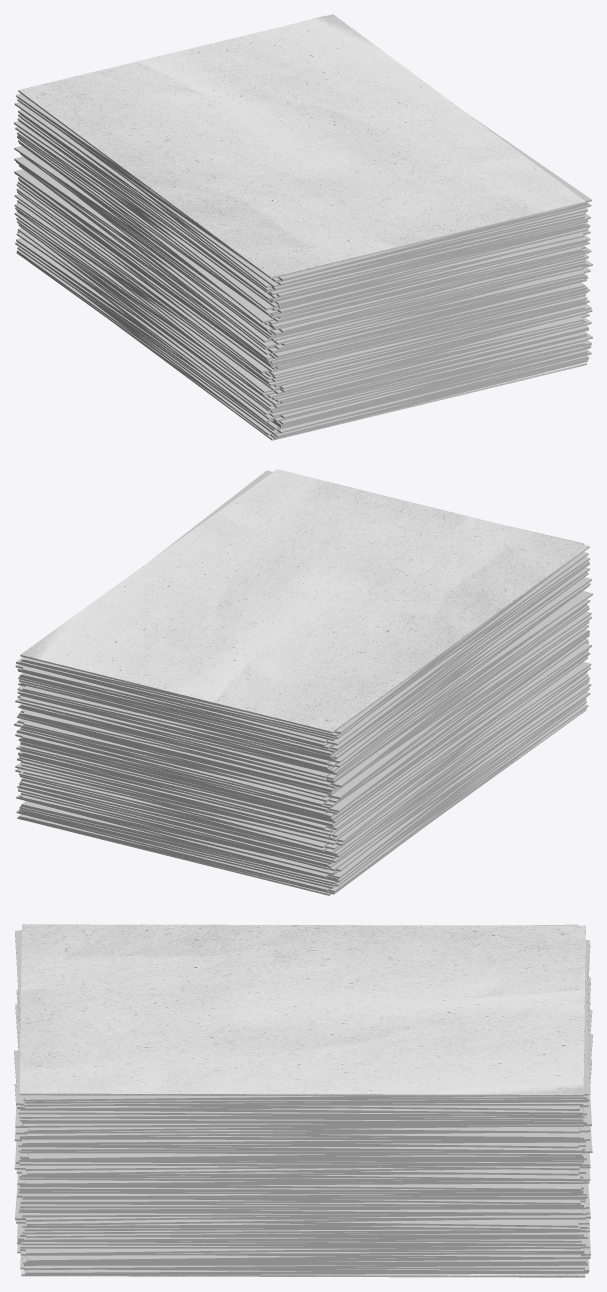
File: Papers.fbx
3 renders of one model, top to bottom at view 1: azimuth 30°, elevation 25°; view 2: azimuth 150°, elevation 25°; view 3: azimuth 270°, elevation 25°, orthographic. The views are drawn at different scales.
Parts seen in each view (by area): view 1: Plane.099, Plane.042, Plane.080, Plane.016, Plane.098, Plane.051, Plane.073, Plane.072, Plane.094, Plane.019, Plane.040, Plane.034 (+84 smaller); view 2: Plane.099, Plane.037, Plane.072, Plane.092, Plane.021, Plane.067, Plane.081, Plane.059, Plane.060, Plane.086, Plane.013, Plane.046 (+82 smaller); view 3: Plane.099, Plane.098, Plane.014, Plane.038, Plane.049, Plane.093, Plane.074, Plane.096, Plane.089, Plane.070, Plane.066, Plane.058 (+87 smaller).
Boxes of the visible parts, x1=… form: Plane.099: x1=18, y1=14, x2=585, y2=278; Plane.042: x1=16, y1=184, x2=585, y2=372; Plane.080: x1=122, y1=199, x2=584, y2=310; Plane.016: x1=48, y1=247, x2=583, y2=415; Plane.098: x1=16, y1=15, x2=591, y2=280; Plane.051: x1=14, y1=169, x2=588, y2=357; Plane.073: x1=17, y1=135, x2=589, y2=321; Plane.072: x1=105, y1=199, x2=582, y2=323; Plane.094: x1=62, y1=132, x2=587, y2=287; Plane.019: x1=74, y1=263, x2=586, y2=410; Plane.040: x1=16, y1=188, x2=587, y2=376; Plane.034: x1=43, y1=217, x2=585, y2=386; Plane.099: x1=20, y1=469, x2=589, y2=733; Plane.037: x1=19, y1=649, x2=588, y2=835; Plane.072: x1=17, y1=591, x2=592, y2=777; Plane.092: x1=22, y1=556, x2=586, y2=745; Plane.021: x1=19, y1=674, x2=588, y2=861; Plane.067: x1=18, y1=599, x2=590, y2=786; Plane.081: x1=22, y1=645, x2=491, y2=763; Plane.059: x1=23, y1=686, x2=487, y2=798; Plane.060: x1=17, y1=611, x2=591, y2=797; Plane.086: x1=19, y1=567, x2=589, y2=754; Plane.013: x1=19, y1=687, x2=589, y2=874; Plane.046: x1=20, y1=633, x2=589, y2=820; Plane.099: x1=19, y1=924, x2=585, y2=1096; Plane.098: x1=15, y1=924, x2=588, y2=1101; Plane.014: x1=14, y1=1084, x2=589, y2=1254; Plane.038: x1=20, y1=1198, x2=583, y2=1208; Plane.049: x1=17, y1=1173, x2=581, y2=1190; Plane.093: x1=16, y1=940, x2=589, y2=1110; Plane.074: x1=26, y1=1132, x2=589, y2=1144; Plane.096: x1=25, y1=954, x2=589, y2=1103; Plane.089: x1=18, y1=1109, x2=581, y2=1116; Plane.070: x1=18, y1=981, x2=590, y2=1152; Plane.066: x1=16, y1=989, x2=592, y2=1160; Plane.058: x1=15, y1=1004, x2=590, y2=1175.
Size of the model in its own units: 210 by 100 by 289.
